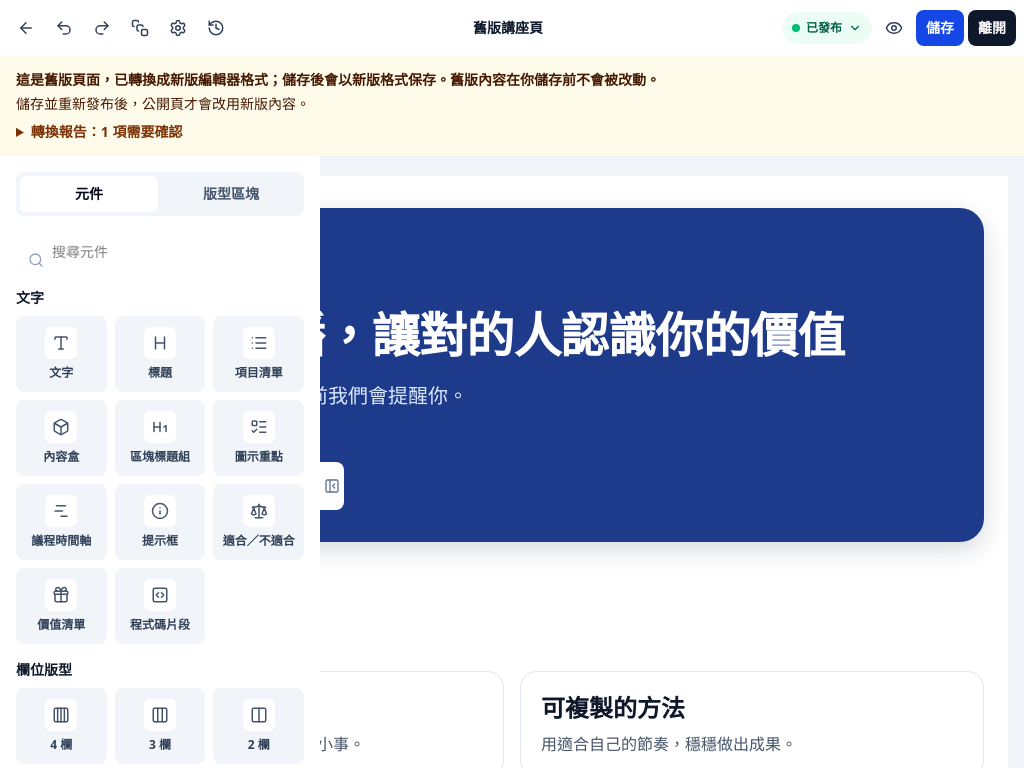
Test case: opening a legacy page › enables version restore for an unedited conversion
Click the button named "版本紀錄".
click(216, 28)  # box [198,10,234,46]
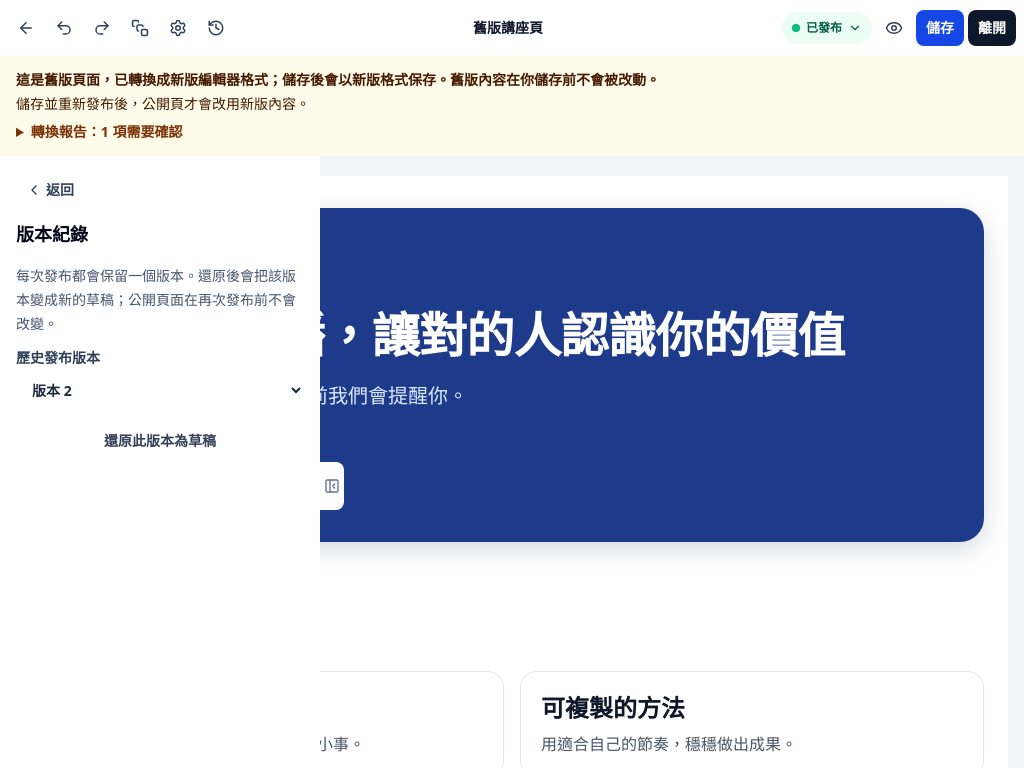
Now the button "還原此版本為草稿" is enabled, box [16,421,304,461]
